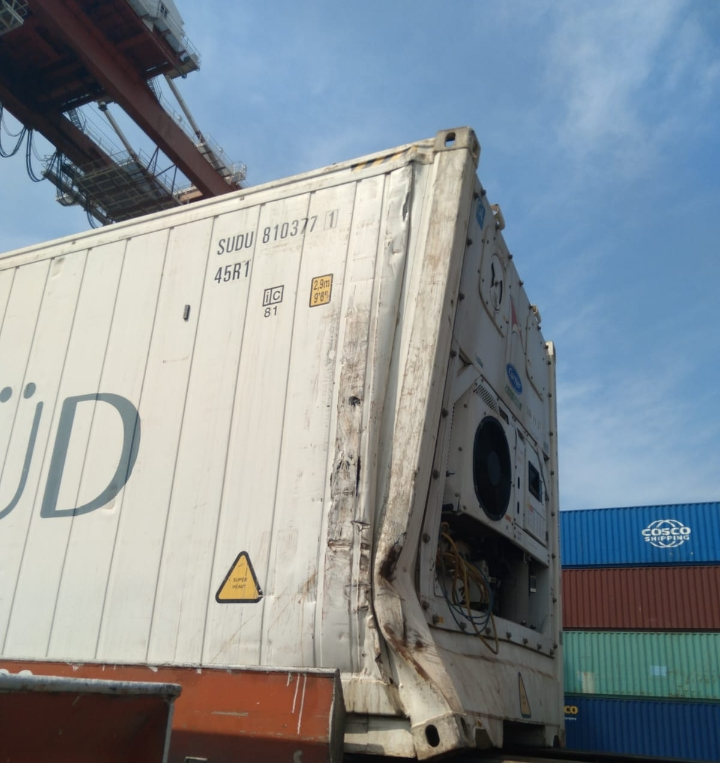moderate: (305, 379, 456, 693)
